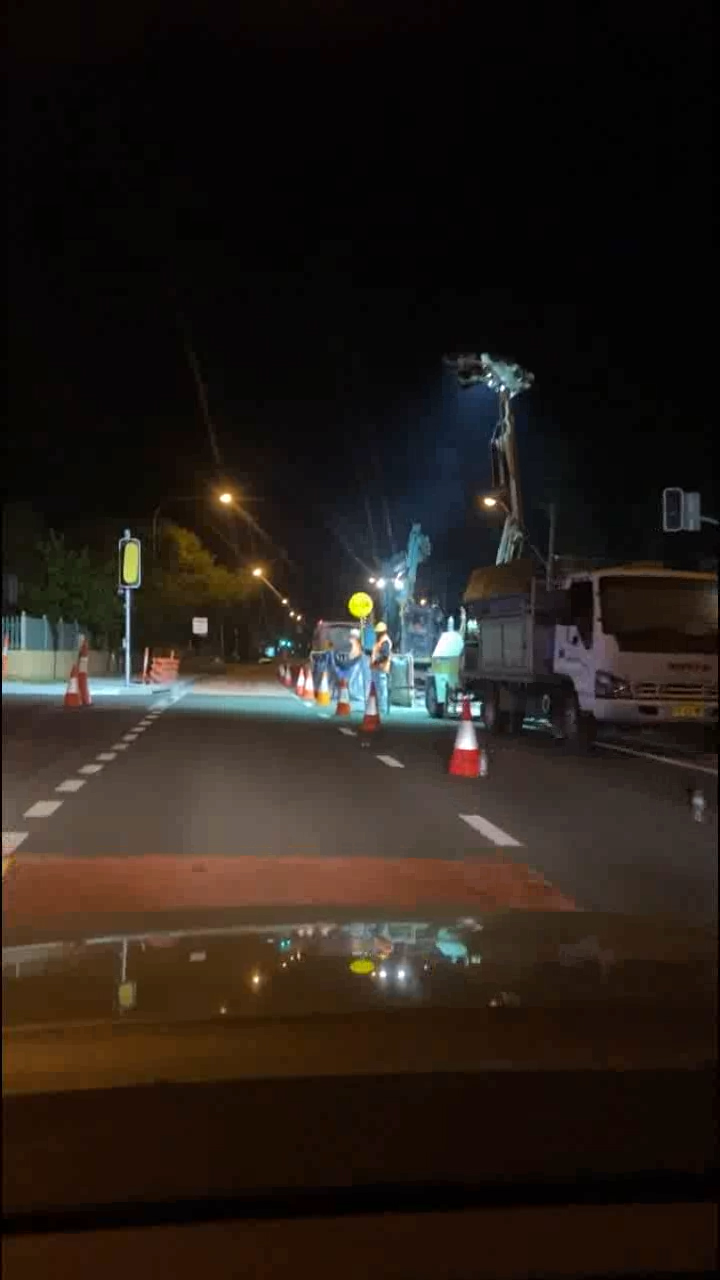person: (347, 590, 399, 734)
road cone: (70, 629, 97, 730), (302, 665, 316, 700)
truck: (424, 348, 718, 752)
